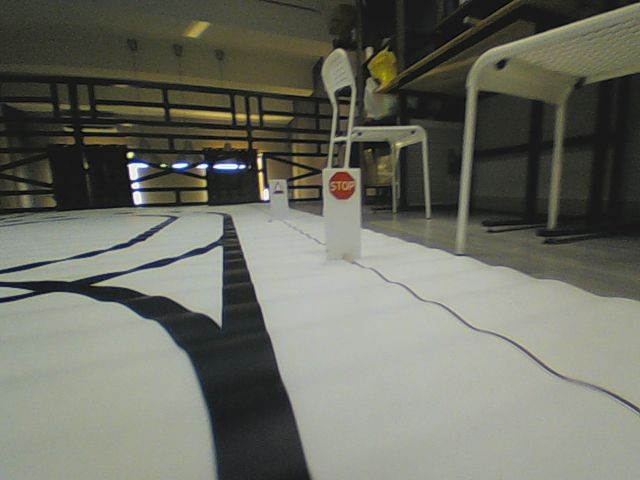Stop: (327, 170, 356, 201)
